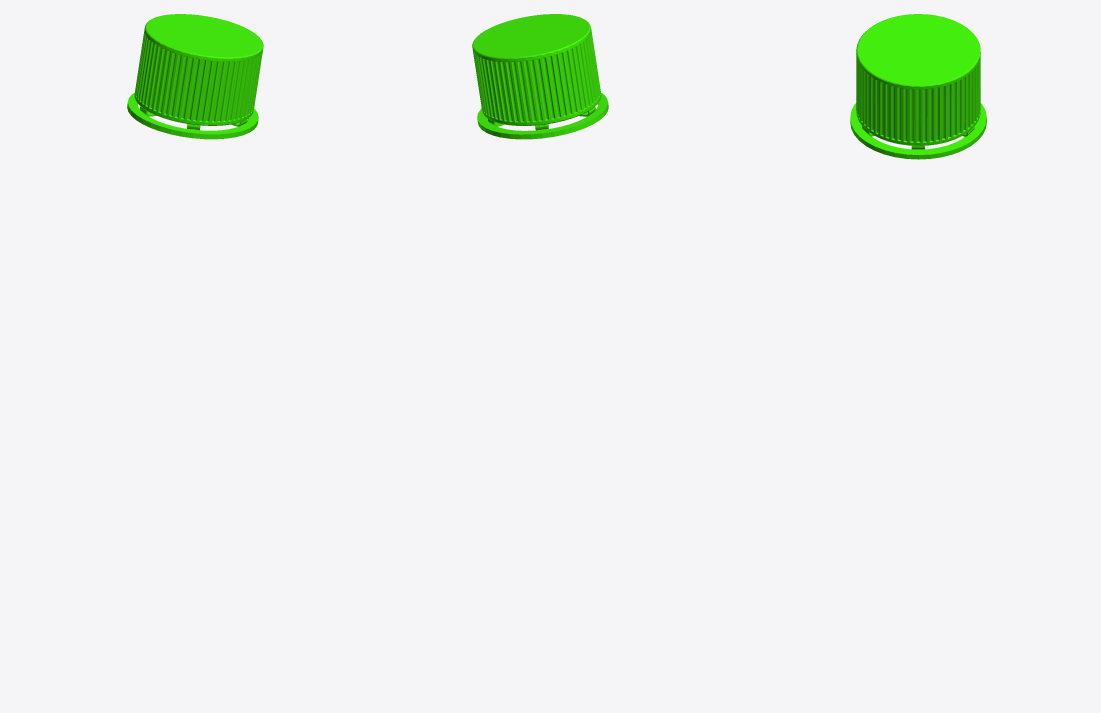
Rendered from bend_low_0.obj.
3 views of the same model, side by side, from view 1: azimuth 30°, elevation 25°; view 2: azimuth 150°, elevation 25°; view 3: azimuth 270°, elevation 25° (orthographic). The views are drawn at different scales.
Visible parts, largest first — view 1: model; view 2: model; view 3: model.
Part boxes in pixels (x1,y1,x2,y2): model: [127, 14, 263, 139]; model: [472, 14, 608, 139]; model: [850, 14, 986, 159].
Size of the model in its own units: 0.1287 by 0.2612 by 0.1231.
Materials: 1 (1 with a texture image).
